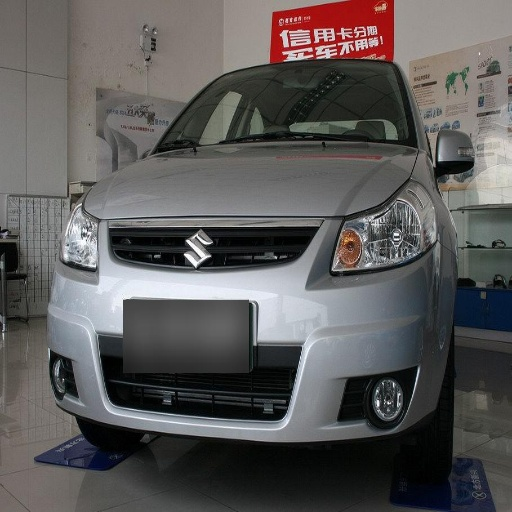front_bumper: (51, 217, 451, 442)
front_right_light: (59, 205, 98, 271)
hood: (86, 141, 418, 218)
